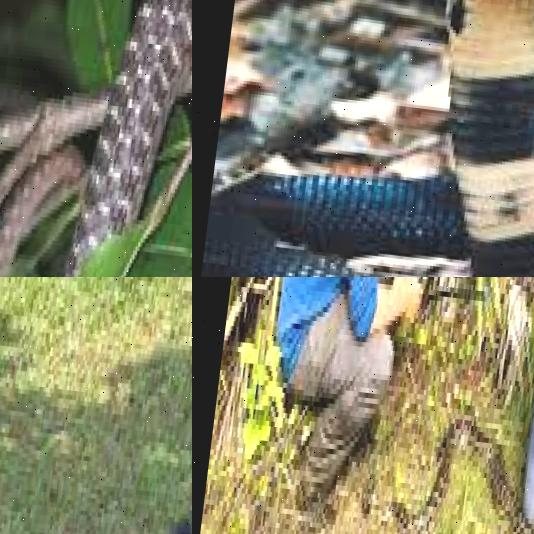snake: (282, 0, 534, 277), (0, 0, 192, 277), (94, 277, 192, 534), (368, 400, 534, 534)
